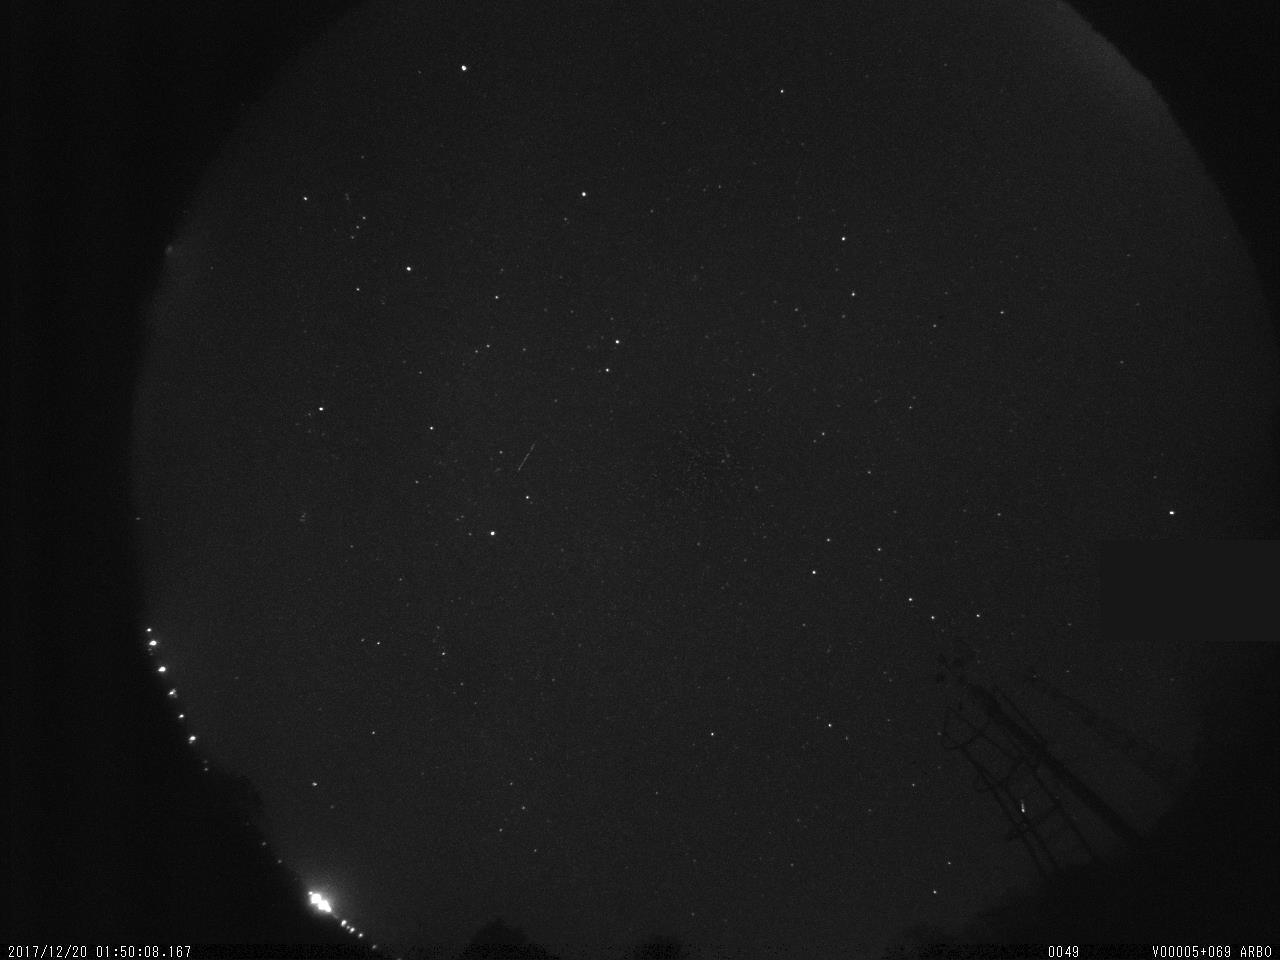Meteor: (514, 436, 539, 476)
